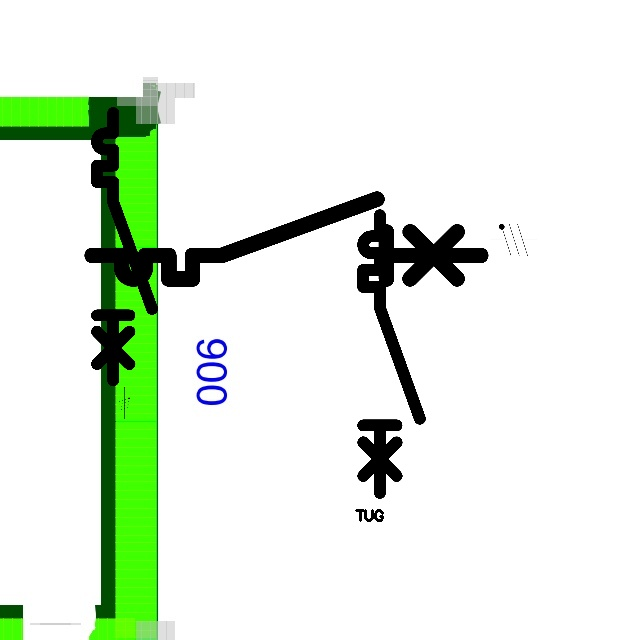interruptor_termomagnetico: (82, 189, 490, 289), (356, 208, 427, 500), (90, 106, 159, 387)
